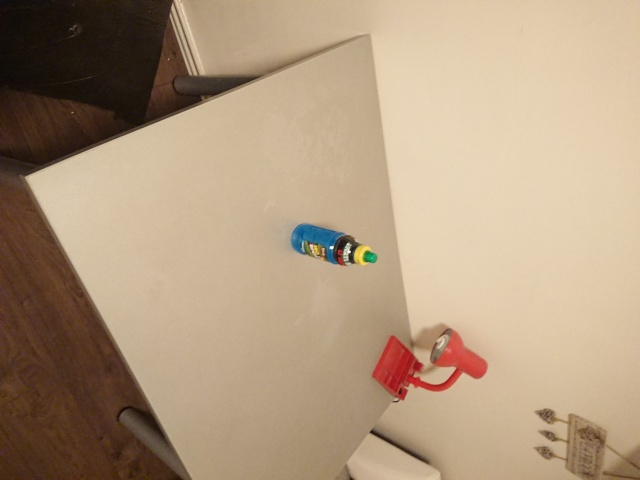Vindi Iso Sport Forest Strawberries 500mL: (288, 221, 377, 266)
